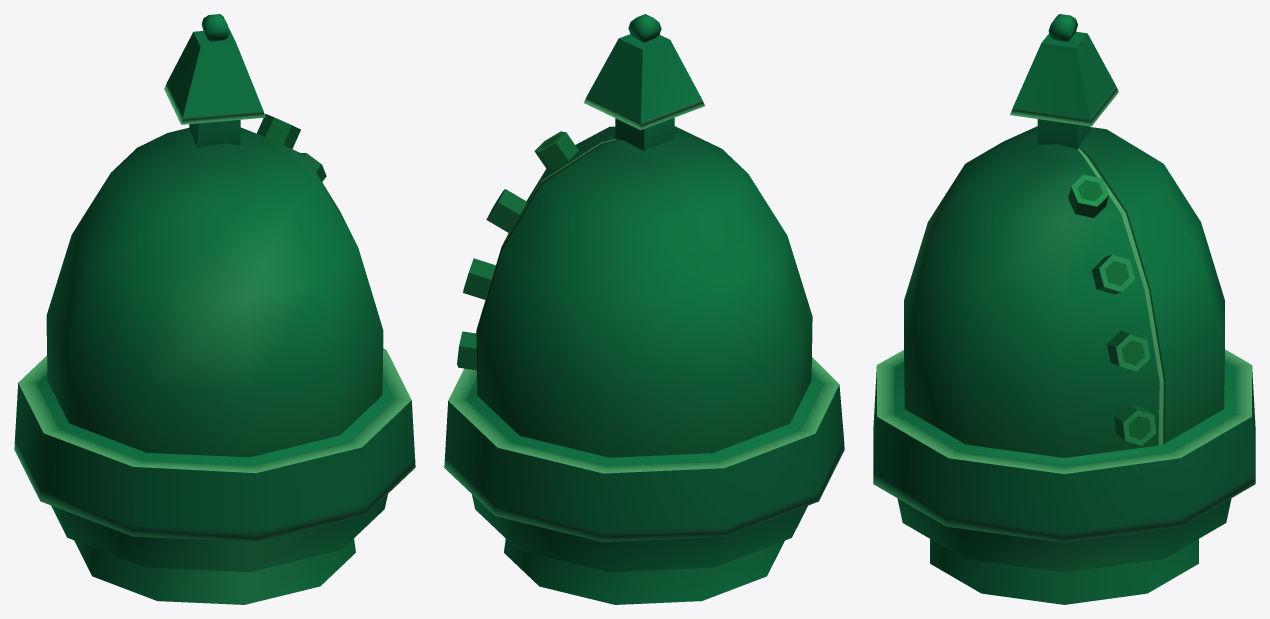
File: Buoy.fbx
The picture shows the model from 3 angles, left to right: view 1: azimuth 30°, elevation 25°; view 2: azimuth 150°, elevation 25°; view 3: azimuth 270°, elevation 25°; orthographic projection.
Visible parts, largest first — view 1: Buoy; view 2: Buoy; view 3: Buoy.
Part boxes in pixels (x1,y1,x2,y2): Buoy: (14, 14, 415, 604); Buoy: (444, 14, 844, 604); Buoy: (873, 14, 1255, 604).
Size of the model in its own units: 71.8 by 104 by 68.29.
